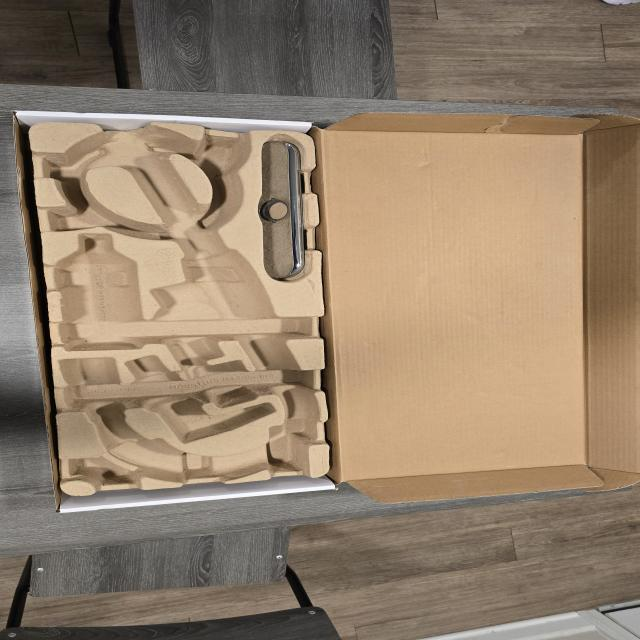1m: (62, 133, 315, 481)
2m: (127, 356, 274, 441)
3m: (57, 234, 140, 350)
4: (261, 142, 304, 279)
5m: (192, 143, 244, 172)
6m: (50, 151, 108, 178)
7m: (57, 203, 110, 230)
